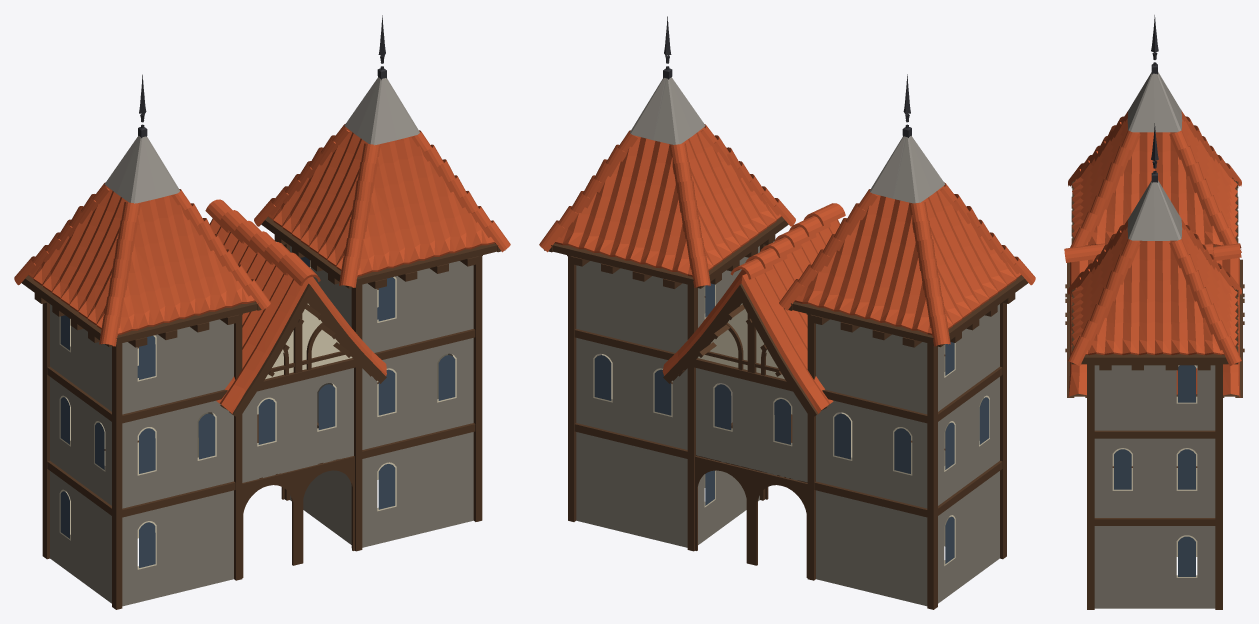
The model's file is gatehouse.obj.
The picture shows the model from 3 angles, left to right: view 1: azimuth 30°, elevation 25°; view 2: azimuth 150°, elevation 25°; view 3: azimuth 270°, elevation 25°; orthographic projection. The views are drawn at different scales.
Size of the model in its own units: 13.65 by 15.79 by 5.62.
